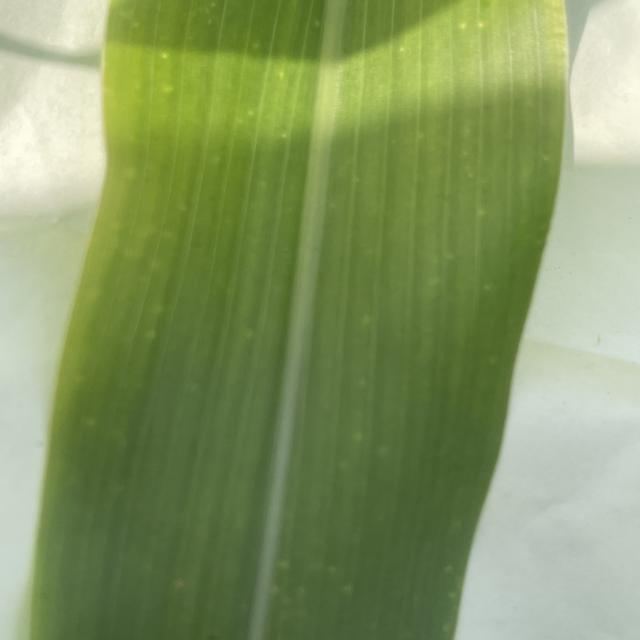millet_healthy: (30, 0, 567, 640)
